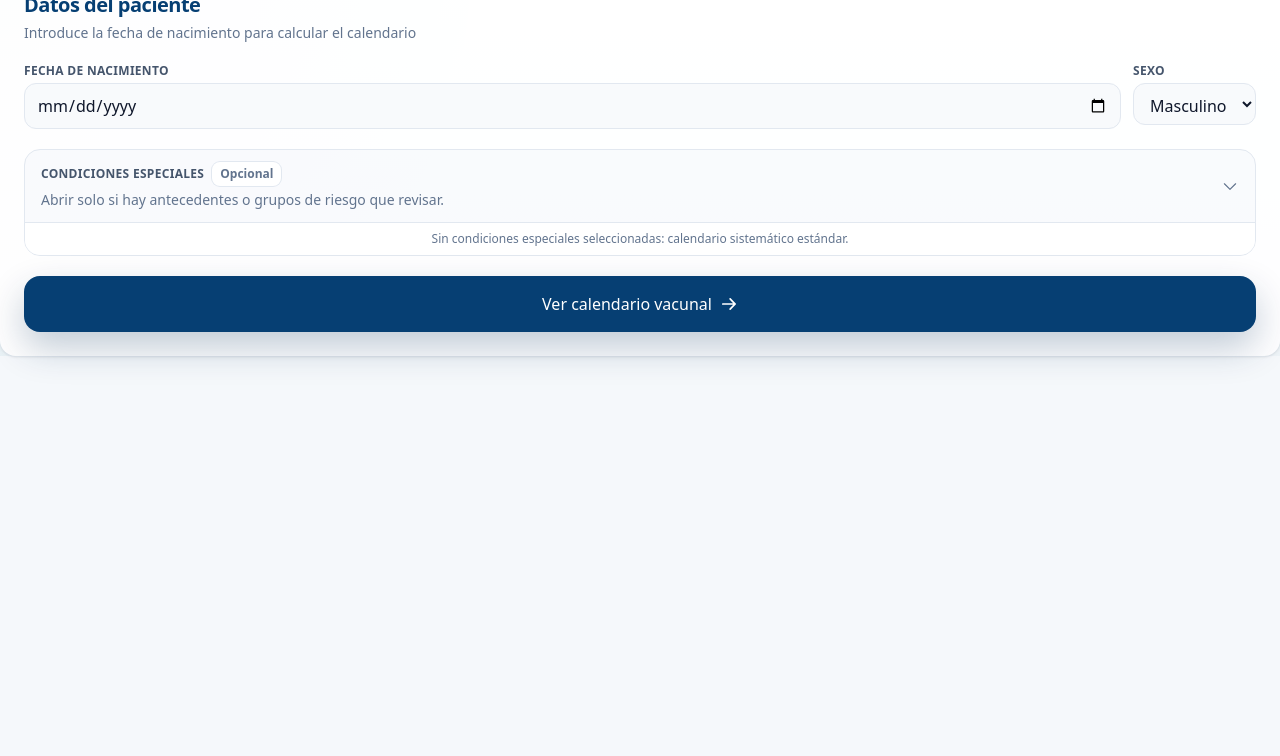
PatientForm special conditions › groups special conditions by clinical section and includes documentation/perinatal warnings
Click the button "Condiciones especiales": click(123, 174) [25, 150, 1255, 222]
(page scrolled)
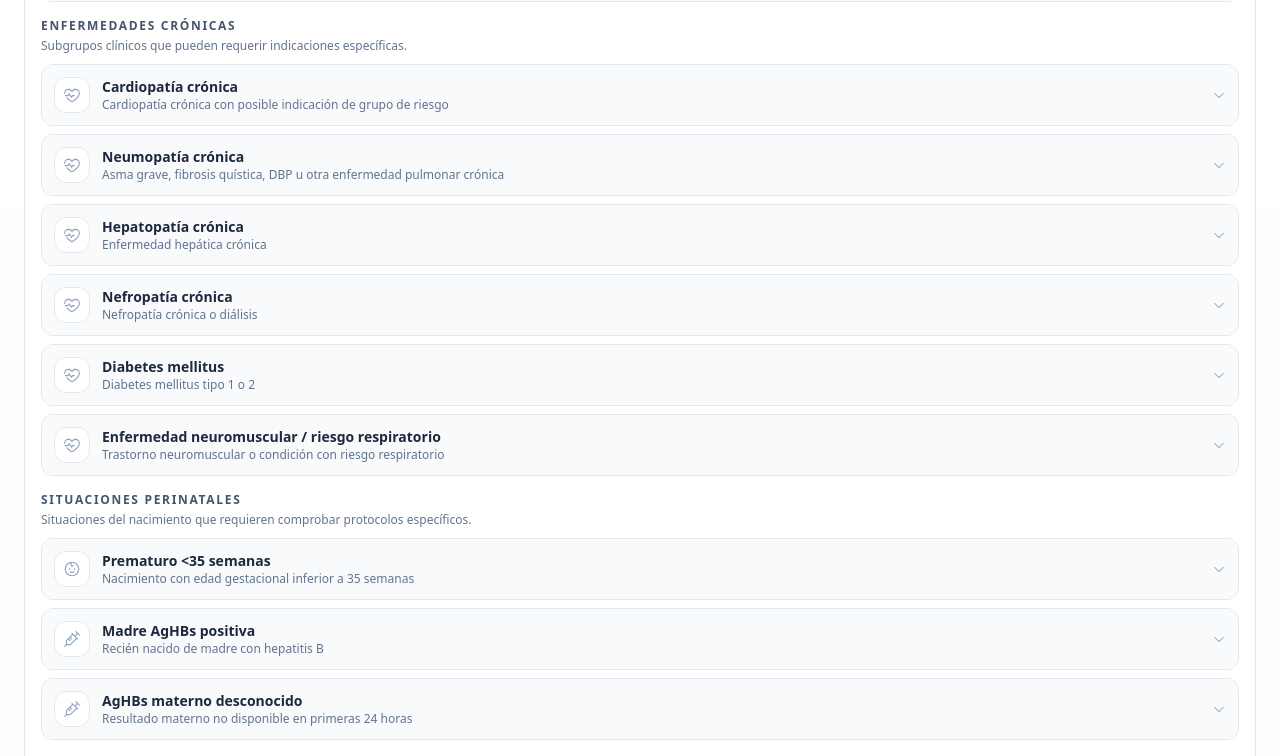
Result: the text "Situaciones perinatales" is shown at [41, 491, 242, 508]
Result: the text "Enfermedades crónicas" is shown at [41, 17, 236, 34]
Result: the text "Madre AgHBs positiva" is shown at [102, 621, 255, 640]
